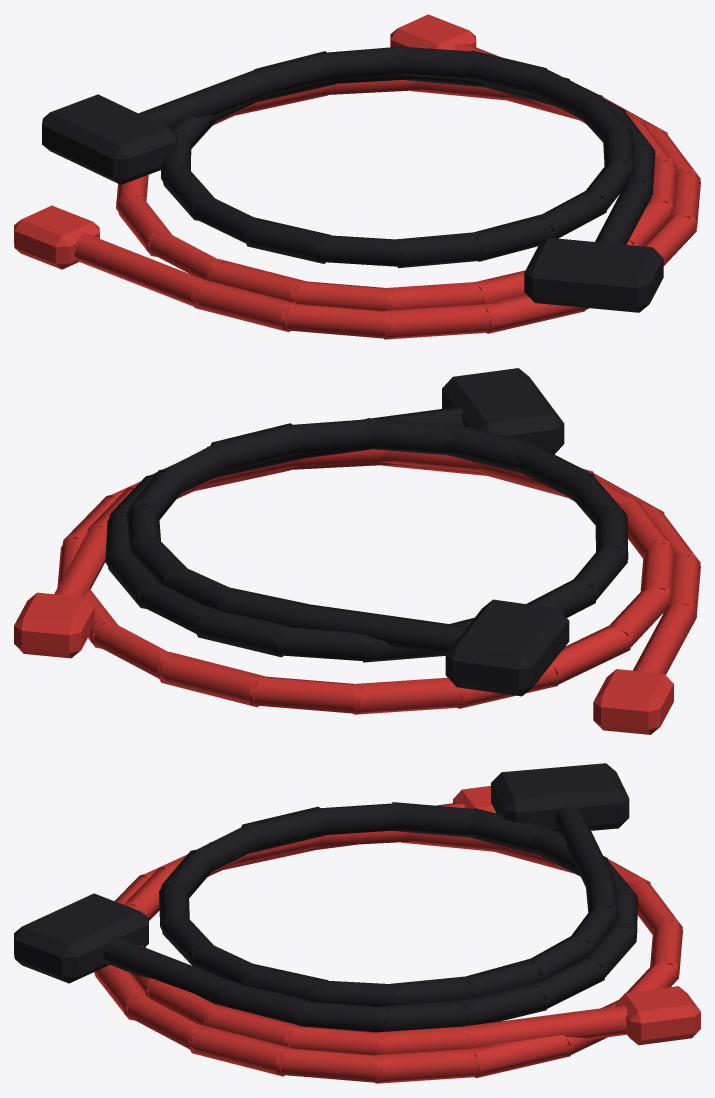
File: cabo_sata.obj
The picture shows the model from 3 angles, top to bottom: view 1: azimuth 30°, elevation 25°; view 2: azimuth 150°, elevation 25°; view 3: azimuth 270°, elevation 25°; orthographic projection. The views are drawn at different scales.
Parts seen in each view (by area): view 1: cabo_sata; view 2: cabo_sata; view 3: cabo_sata.
Part boxes in pixels (x1,y1,x2,y2): cabo_sata: [14, 14, 700, 339]; cabo_sata: [14, 368, 700, 734]; cabo_sata: [14, 763, 700, 1083].
Size of the model in its own units: 0.1265 by 0.0185 by 0.1287.
